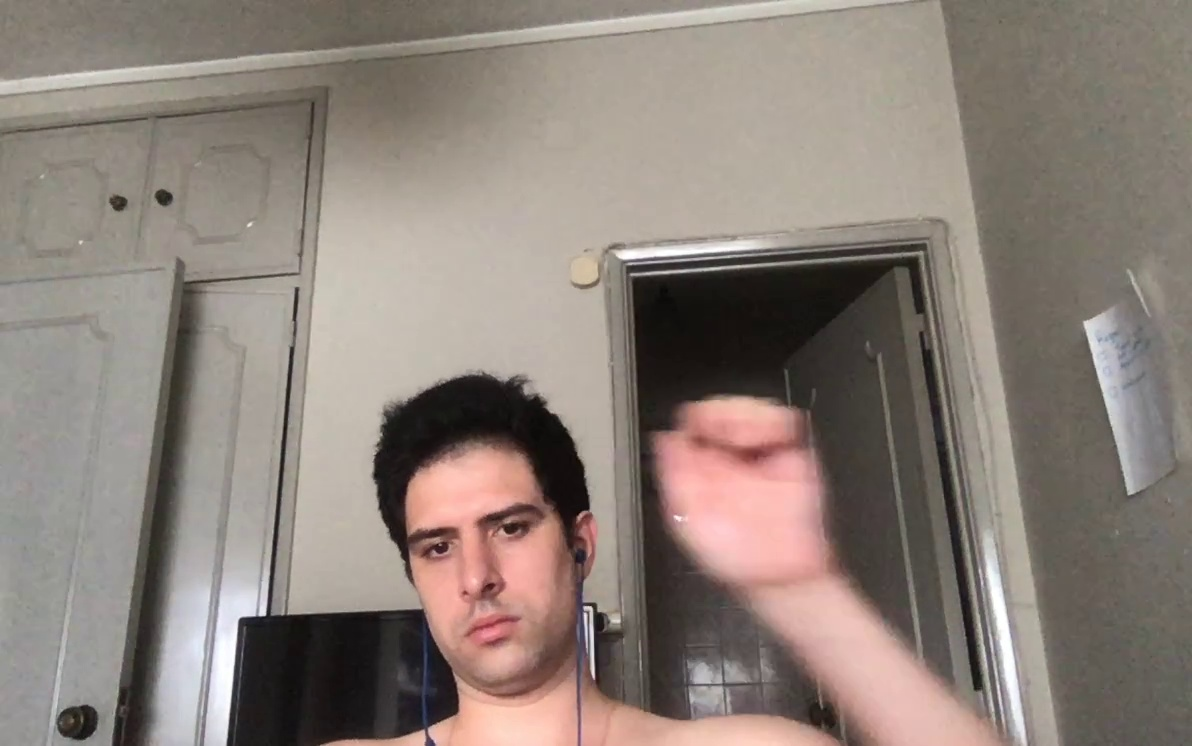c: (646, 394, 836, 590)
